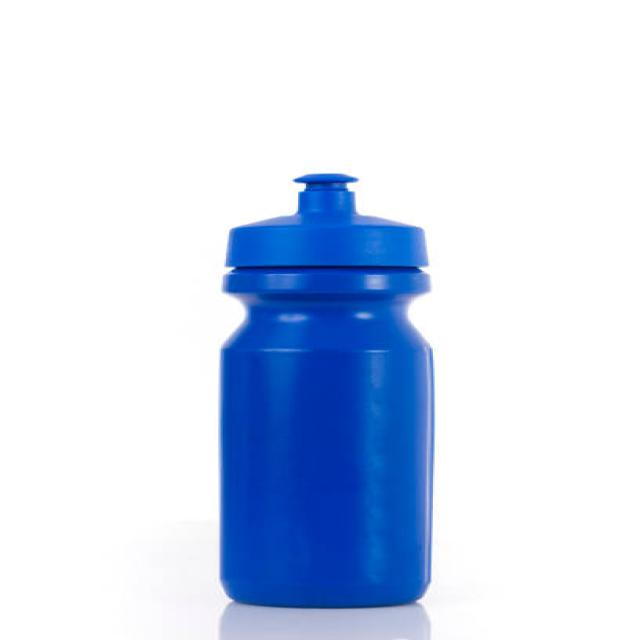blue_bottle: (194, 156, 456, 617)
